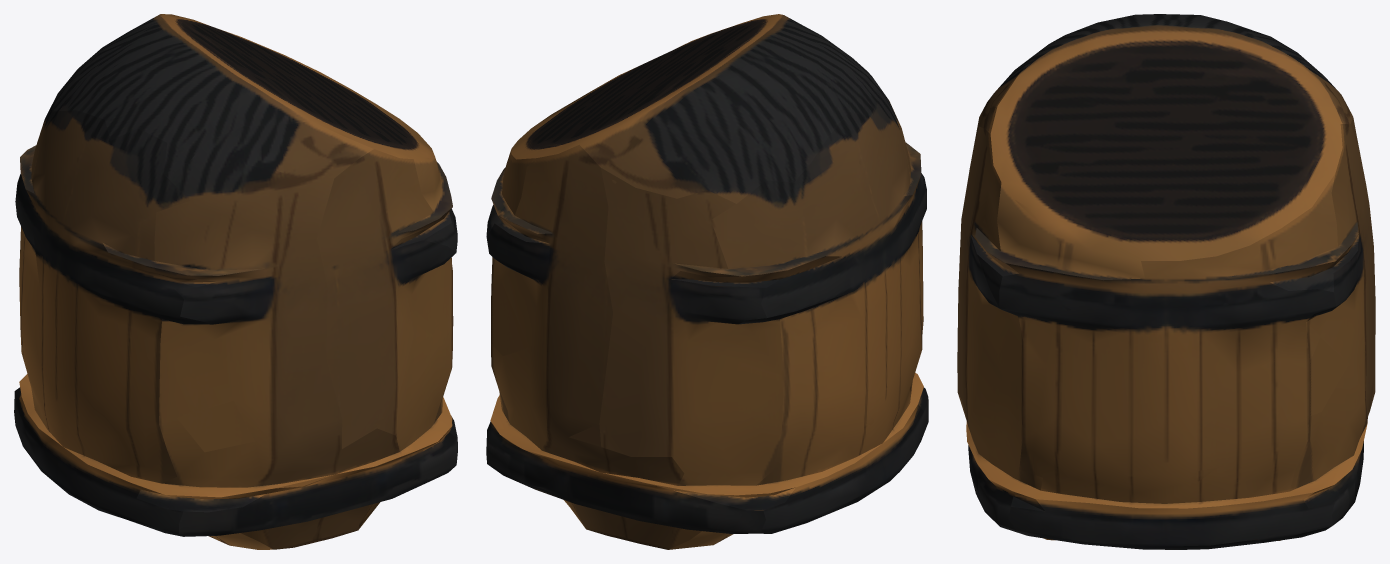
The model's file is ENV_09_BARREL.glb.
3 views of the same model, side by side, from view 1: azimuth 30°, elevation 25°; view 2: azimuth 150°, elevation 25°; view 3: azimuth 270°, elevation 25° (orthographic). The views are drawn at different scales.
Visible parts, largest first — view 1: world; view 2: world; view 3: world.
Boxes of the visible parts, <box> form: world: <box>14,14,457,549</box>; world: <box>486,14,928,549</box>; world: <box>957,14,1375,549</box>.
Bounding box in the file's own units: 0.8191 × 1 × 0.8049.
Materials: 1 (1 with a texture image).
